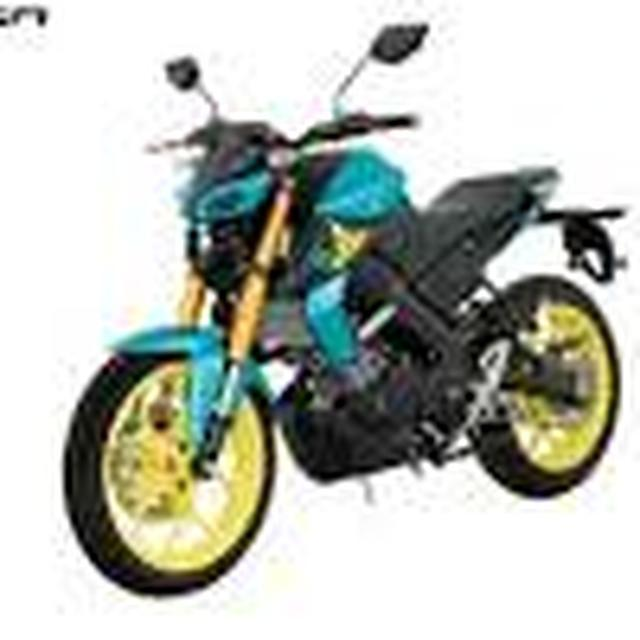motorcycle: (61, 15, 634, 603)
